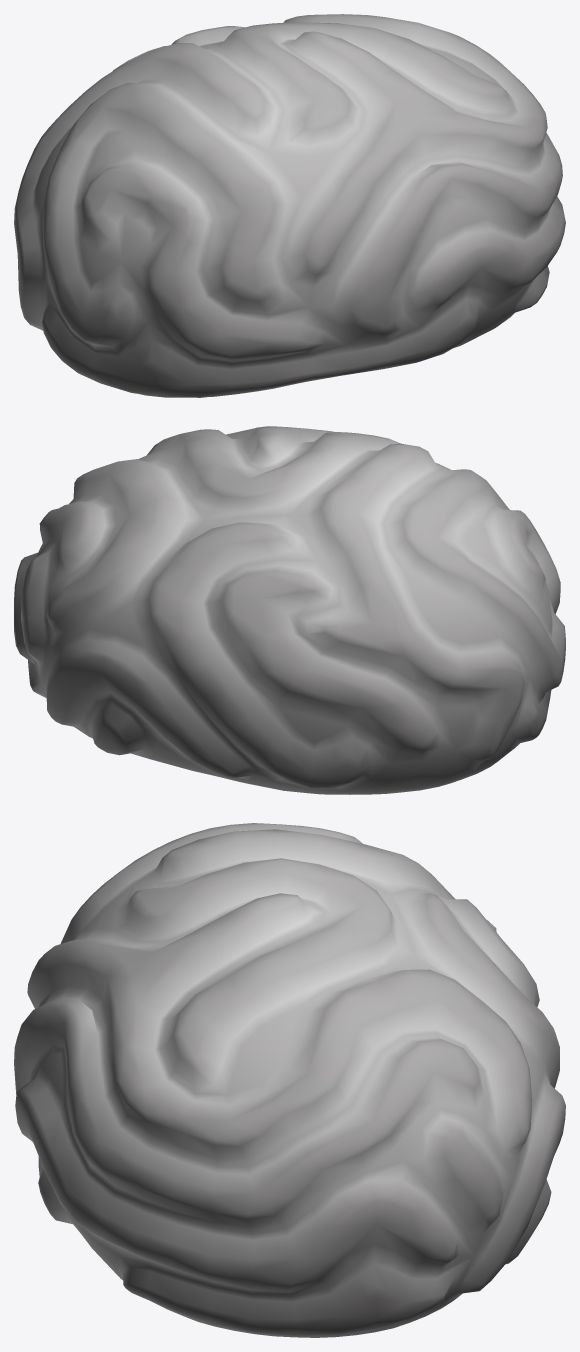
File: pseudodiploria-strigosa.glb
3 views of the same model, one above another, from view 1: azimuth 30°, elevation 25°; view 2: azimuth 150°, elevation 25°; view 3: azimuth 270°, elevation 25° (orthographic). The views are drawn at different scales.
Visible parts, largest first — view 1: pseudodiploria-strigosa; view 2: pseudodiploria-strigosa; view 3: pseudodiploria-strigosa.
Part boxes in pixels (x1=…): pseudodiploria-strigosa: x1=14, y1=14, x2=565, y2=397; pseudodiploria-strigosa: x1=14, y1=426, x2=565, y2=794; pseudodiploria-strigosa: x1=14, y1=823, x2=565, y2=1337.
Bounding box in the file's own units: 0.2252 × 0.1313 × 0.1803.
Materials: 1 (1 with a texture image).
